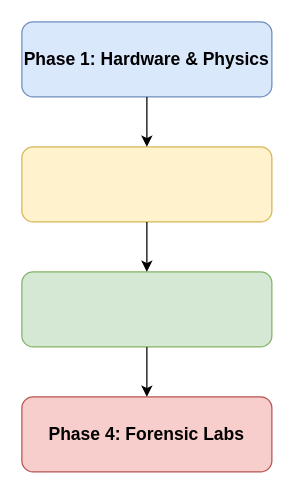
Image size: 294x494. Some labels were removed from this diagram. Each missing label, with the centre of its shape:
"Phase 2: Spark Core Engine" belongs at pixel 146 184.
"Phase 3: Optimization & Cloud Native" belongs at pixel 146 309.
